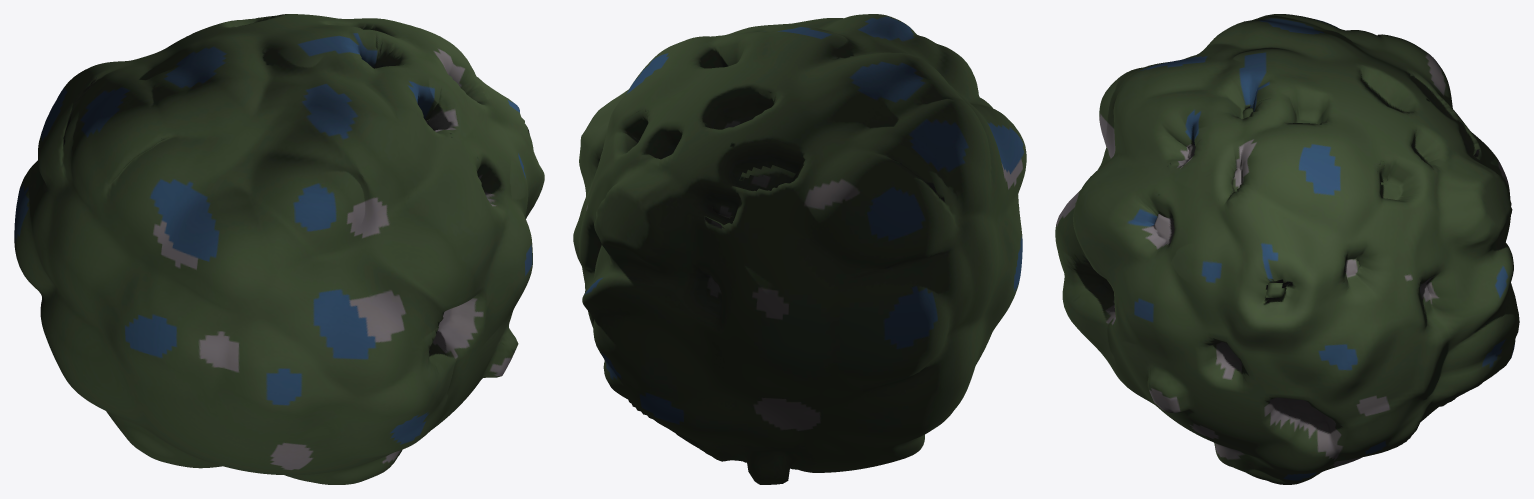
File: asteroid2.glb
The picture shows the model from 3 angles, left to right: view 1: azimuth 30°, elevation 25°; view 2: azimuth 150°, elevation 25°; view 3: azimuth 270°, elevation 25°; orthographic projection. The views are drawn at different scales.
Parts seen in each view (by area): view 1: Cube.001; view 2: Cube.001; view 3: Cube.001.
Part boxes in pixels (bbox=[...]): Cube.001: bbox=[14, 14, 544, 484]; Cube.001: bbox=[573, 14, 1026, 484]; Cube.001: bbox=[1055, 14, 1519, 484].
Size of the model in its own units: 1.93 by 1.78 by 1.91.
Materials: 3 (3 with a texture image).
